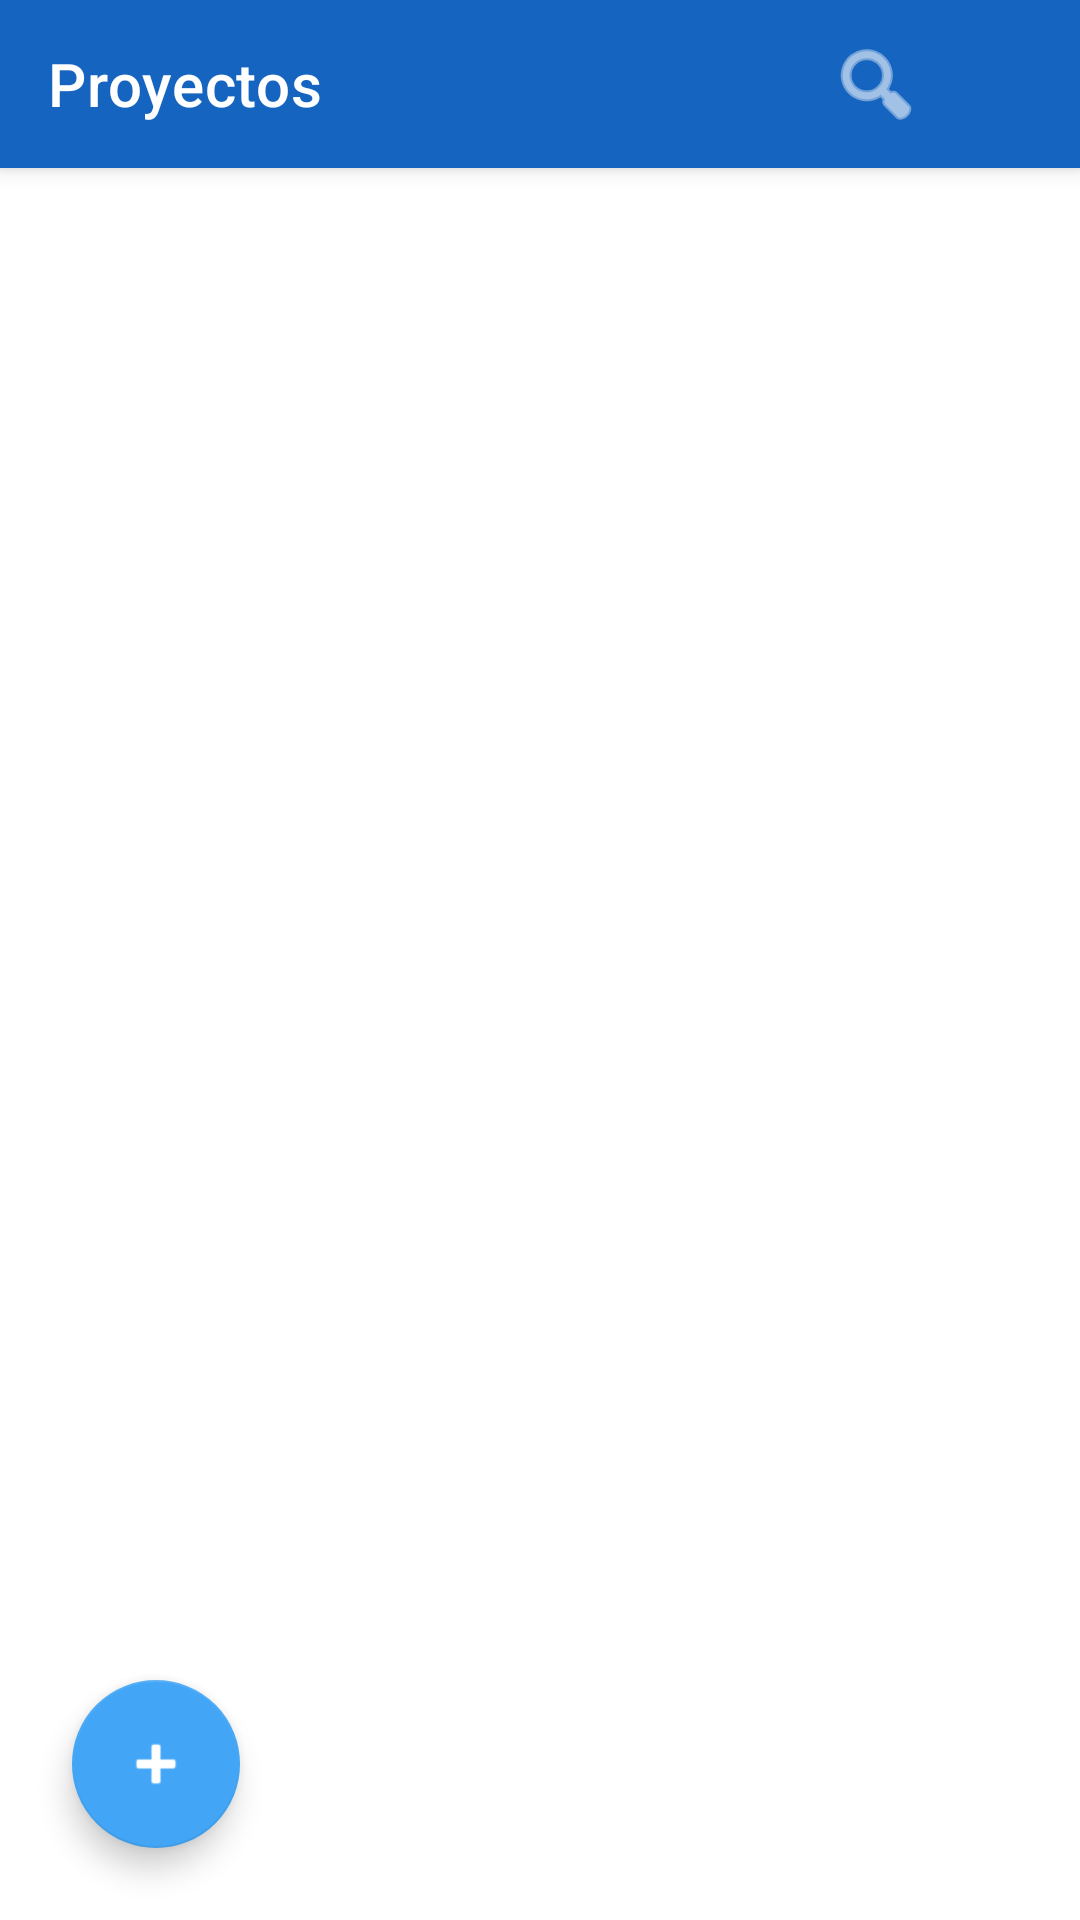

Screen size 1080w x 1920h. Icon name, then its center in pixels as [x,y]:
Añadir: [156,1764]
Buscar: [876,84]
